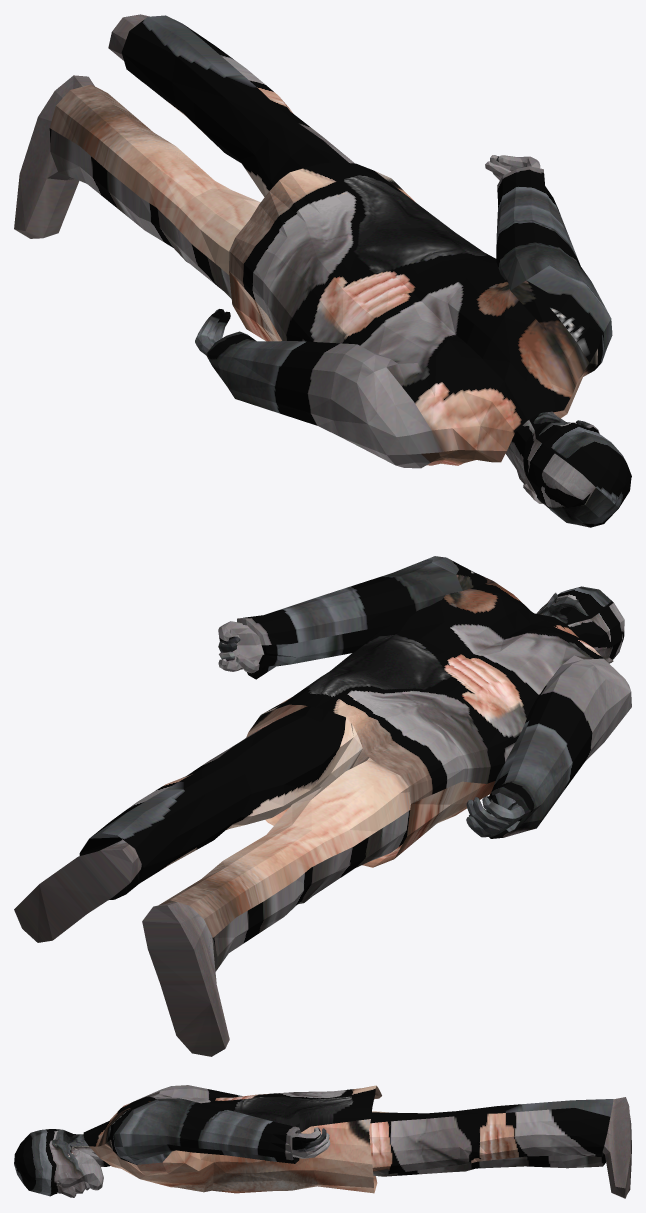
The model's file is man.obj.
3 views of the same model, one above another, from view 1: azimuth 30°, elevation 25°; view 2: azimuth 150°, elevation 25°; view 3: azimuth 270°, elevation 25° (orthographic). The views are drawn at different scales.
Parts seen in each view (by area): view 1: CMan0004-S; view 2: CMan0004-S; view 3: CMan0004-S.
Boxes of the visible parts, box(x1,y1,x2,y2) form: CMan0004-S: box(14, 14, 631, 527); CMan0004-S: box(14, 556, 631, 1056); CMan0004-S: box(14, 1085, 631, 1198).
Bounding box in the file's own units: 3.51 × 2.19 × 9.21.
Materials: 1 (1 with a texture image).
